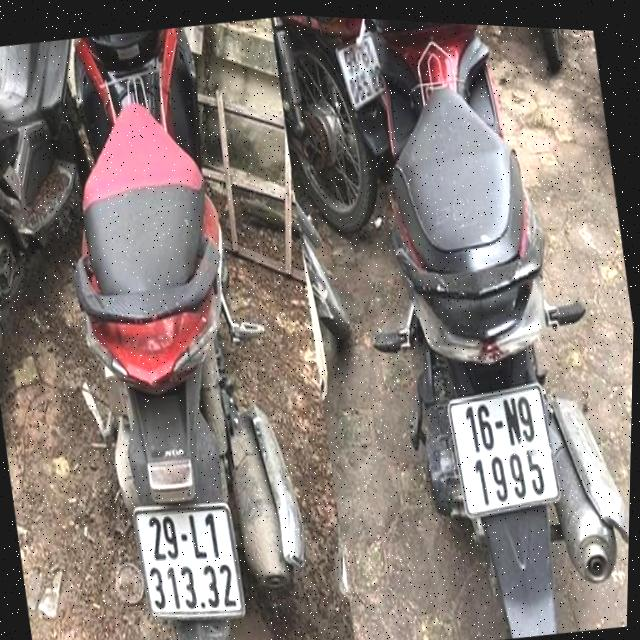motorcycle: (326, 18, 634, 640), (23, 30, 321, 640), (0, 52, 118, 464)
plate: (440, 372, 566, 524), (127, 488, 250, 632), (328, 25, 394, 117)
